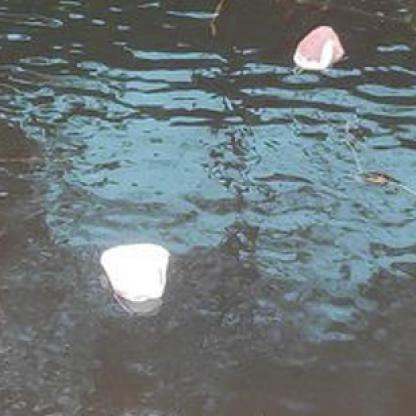Trash: (97, 241, 174, 304), (291, 24, 349, 73)
